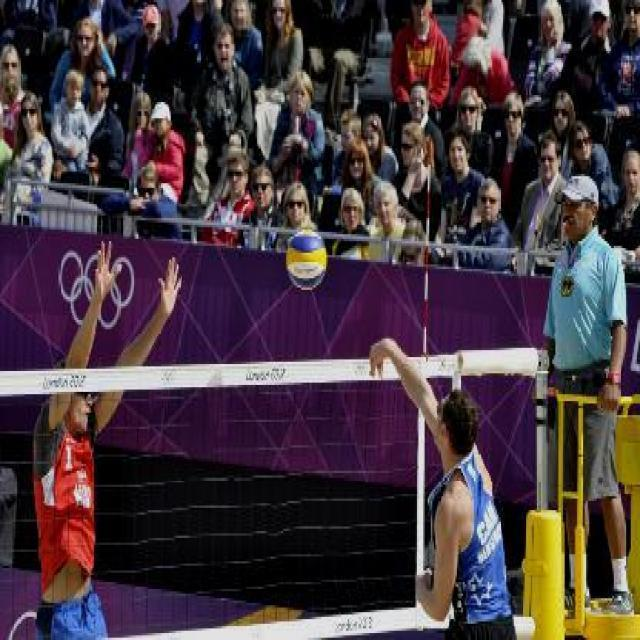volleyball: (286, 232, 326, 292)
